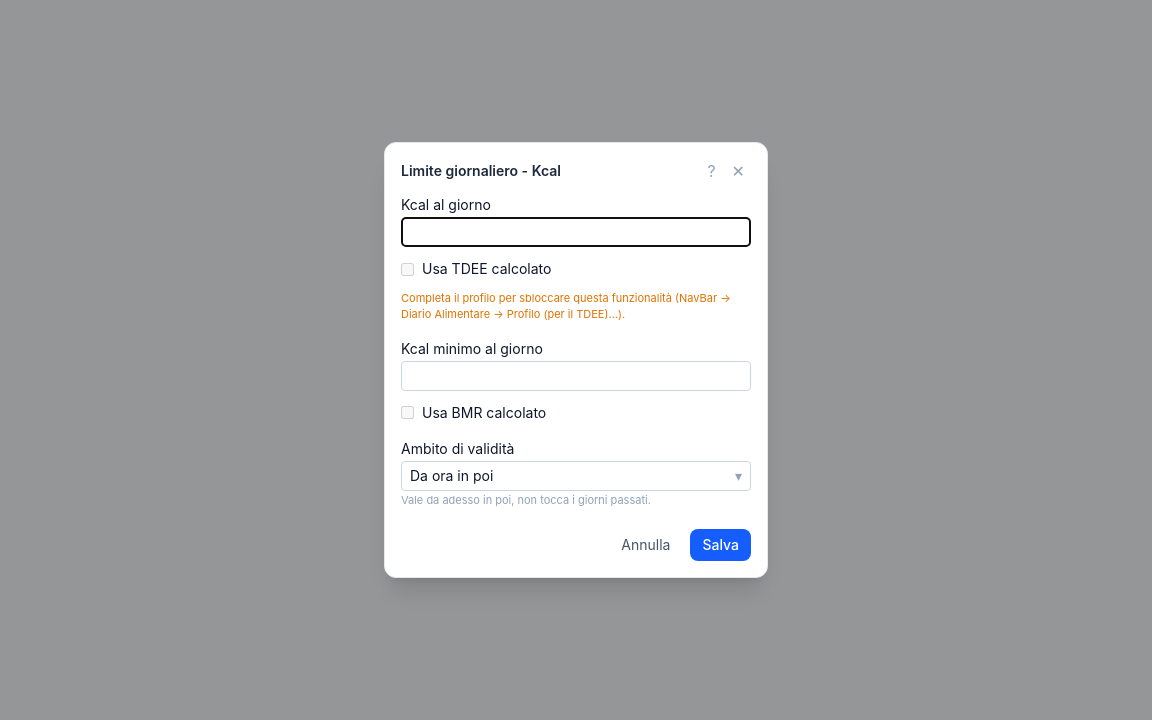
ObiettivoGiornalieroModal - tipo kcal › ObiettivoGiornalieroModal_minimoMaggioreOEgualeAlMassimo_mostraErroreSenzaSalvare
expect the text "Ambito di validità" is shown: met, box [401,440,514,457]
Type "1500" into the number field labelled "Kcal al giorno" at (576, 232), box [401,217,751,247]
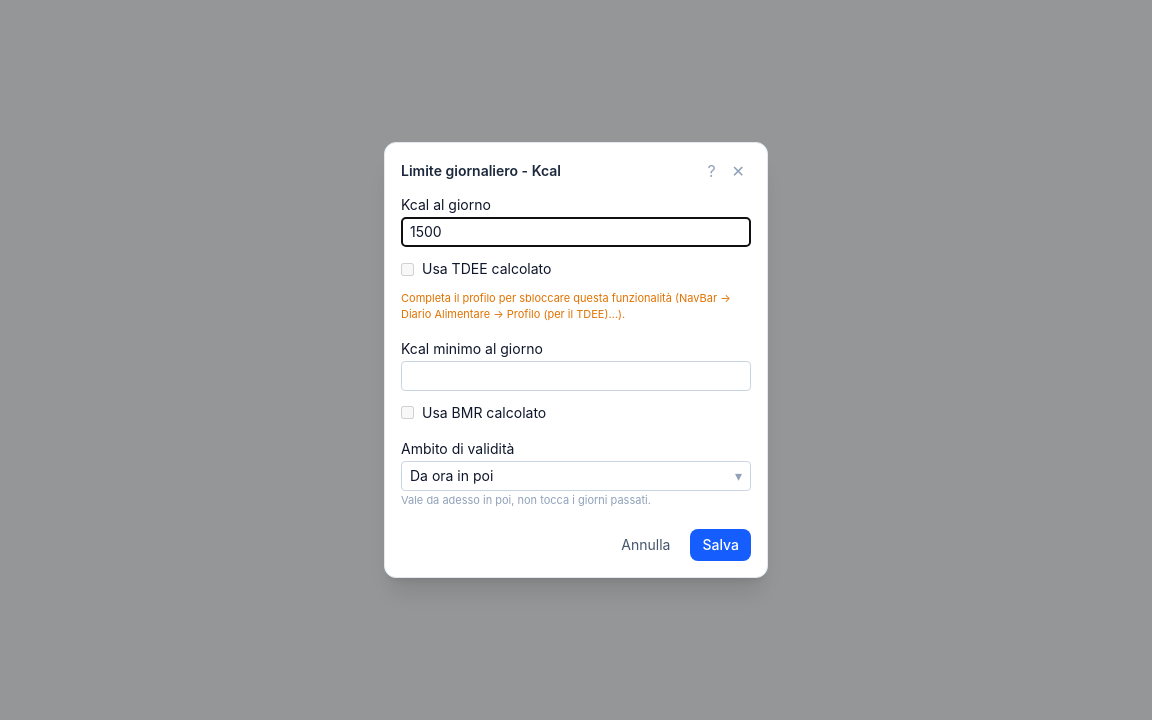
Type "1600" into the number field labelled "Kcal minimo al giorno" at (576, 376), box [401,361,751,391]
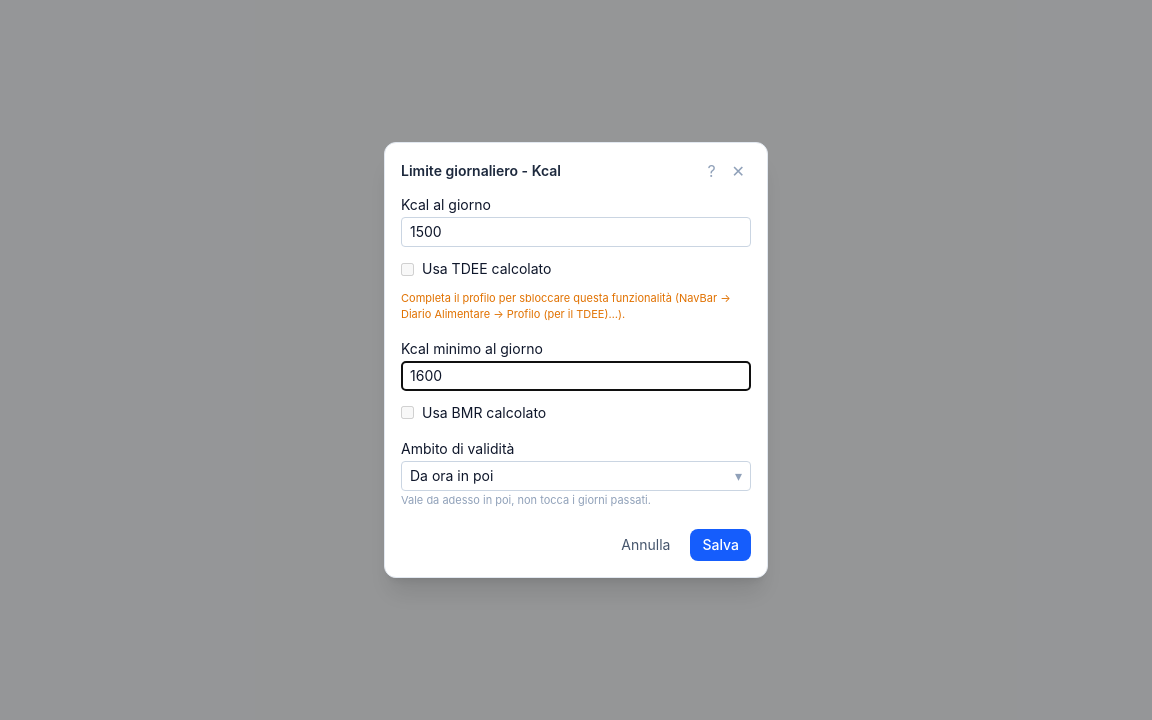
Click the button "Salva" at (721, 544), box [690,528,751,560]
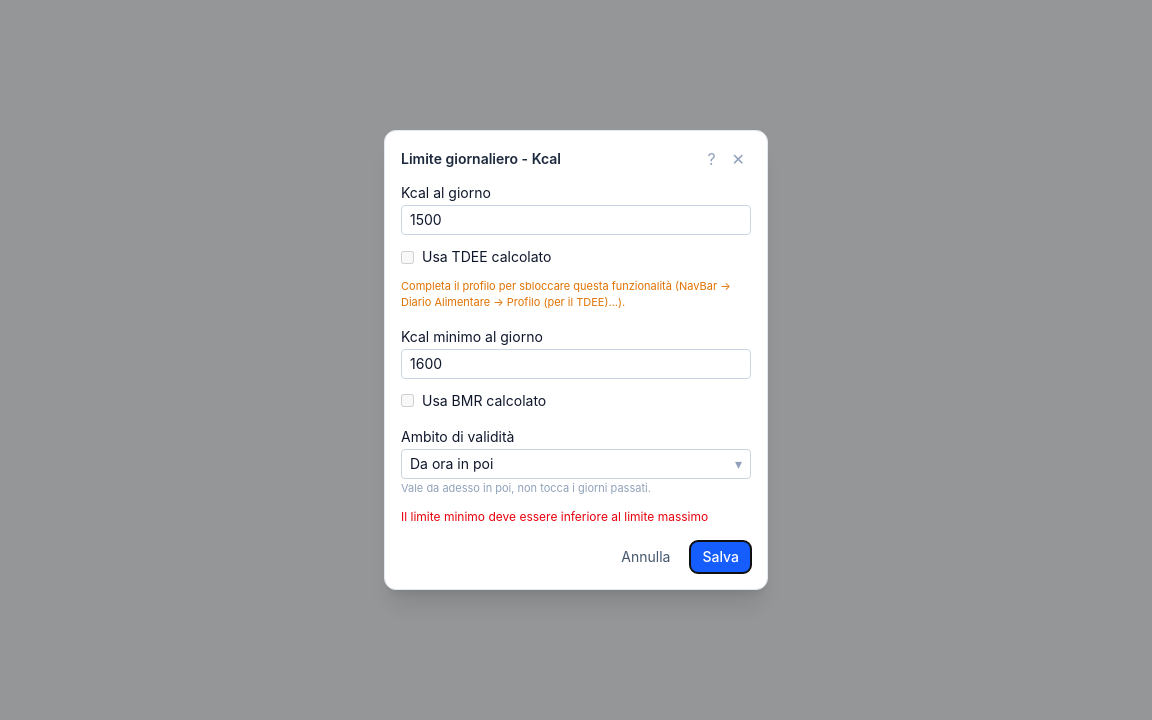
expect the text "Il limite minimo deve essere inferiore al limite massimo" is shown: met, box [401,508,751,524]
